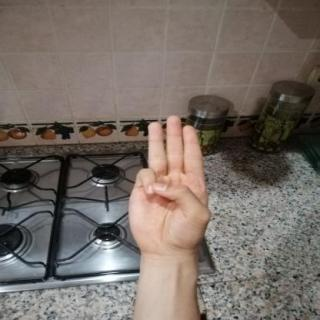THA: (116, 108, 224, 262)
